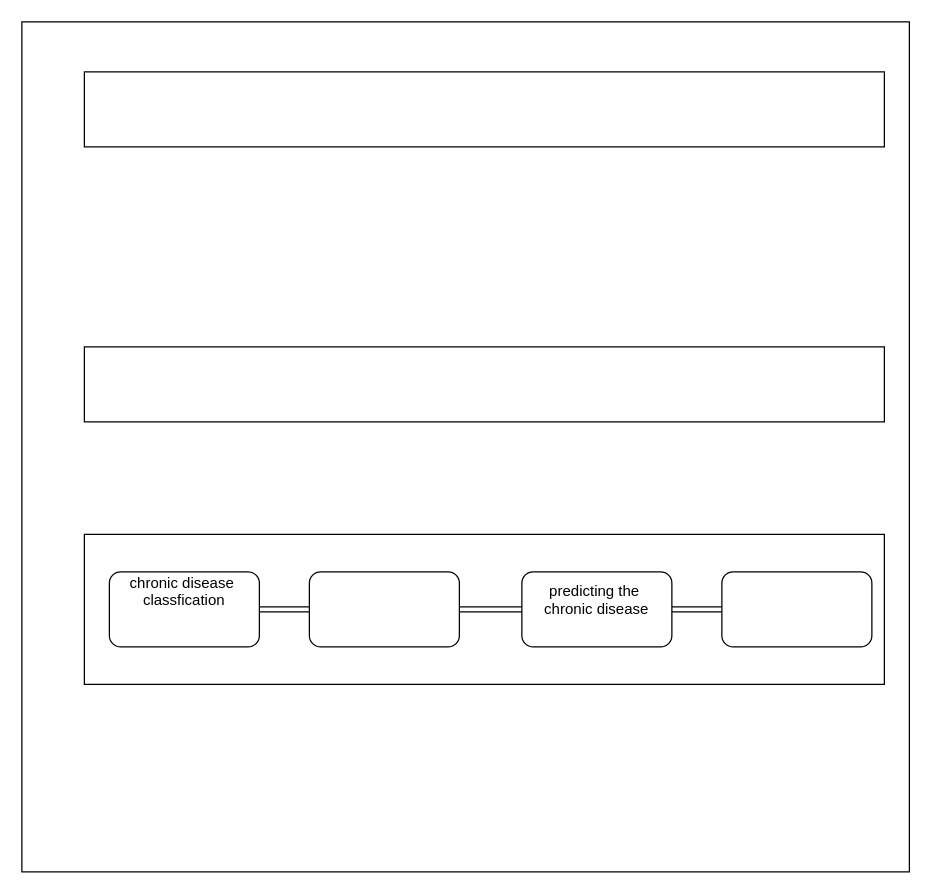
Image size: 931x894. Some labels were removed from this diagram. Each missing label, with the centre of its shape:
analysing the disease from the report: the point at 383,609
Detailed Report: the point at 796,609
